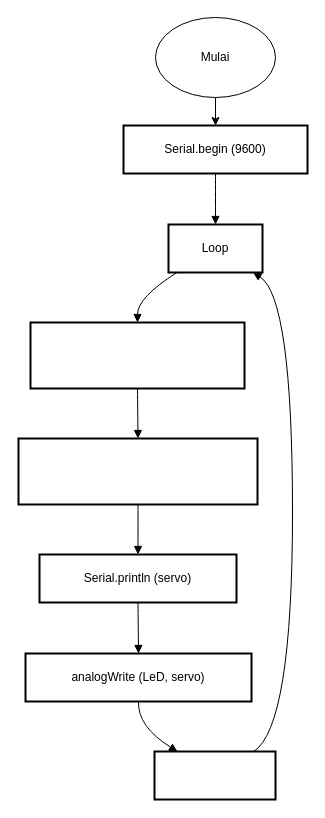
Image size: 325x818. Some labels were removed from this diagram. Here are the shapes that lost their labels. From the top down, the box of each, then its label:
(29, 321, 245, 389): nilaipot = analogRead (pinpot)
(17, 437, 258, 505): servo = nilaipot * (255.0 / 1023.0)
(153, 750, 276, 800): delay 10
